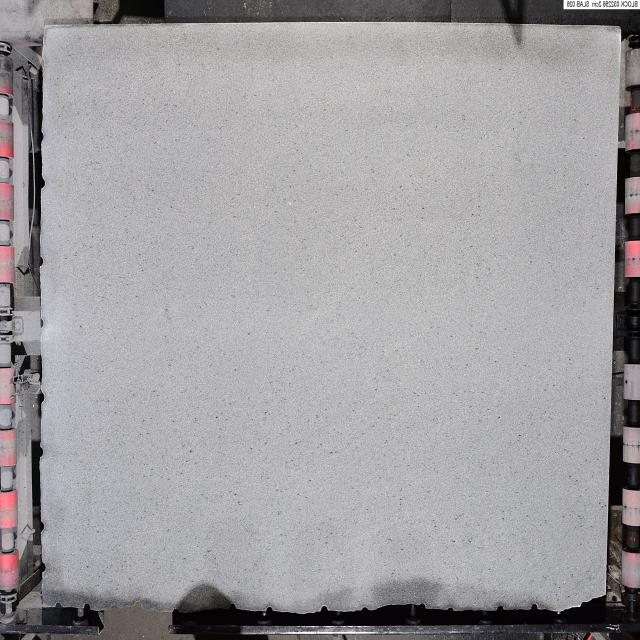chapa: (41, 24, 620, 612)
veio: (132, 600, 144, 614), (266, 602, 276, 618), (82, 600, 92, 616), (530, 601, 540, 616), (318, 604, 329, 616)
